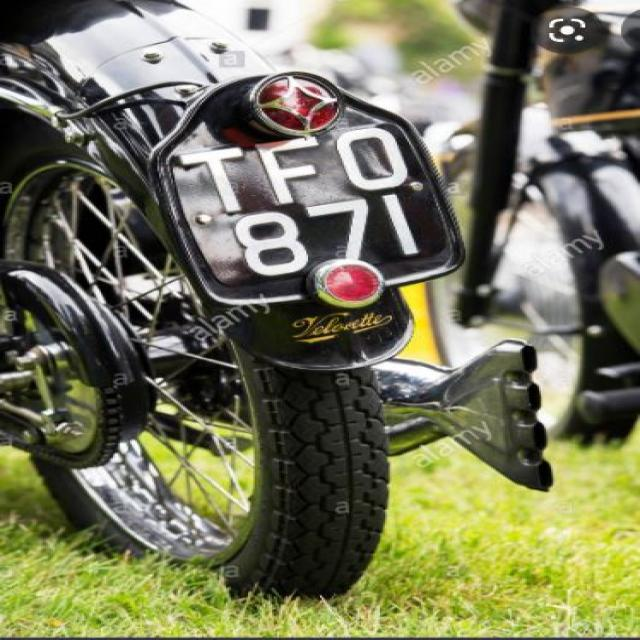license_plate: (146, 70, 467, 308)
